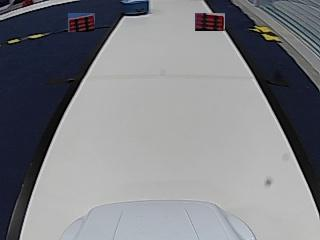prop: (122, 1, 148, 16)
